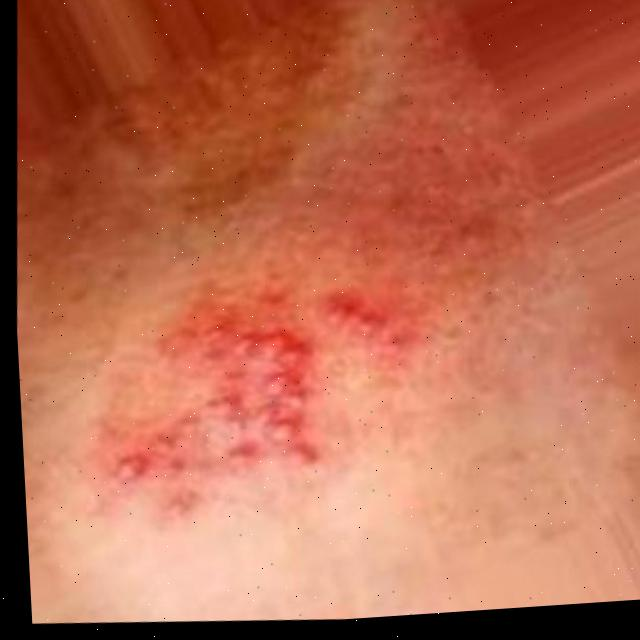Shingles: (104, 276, 432, 531)
